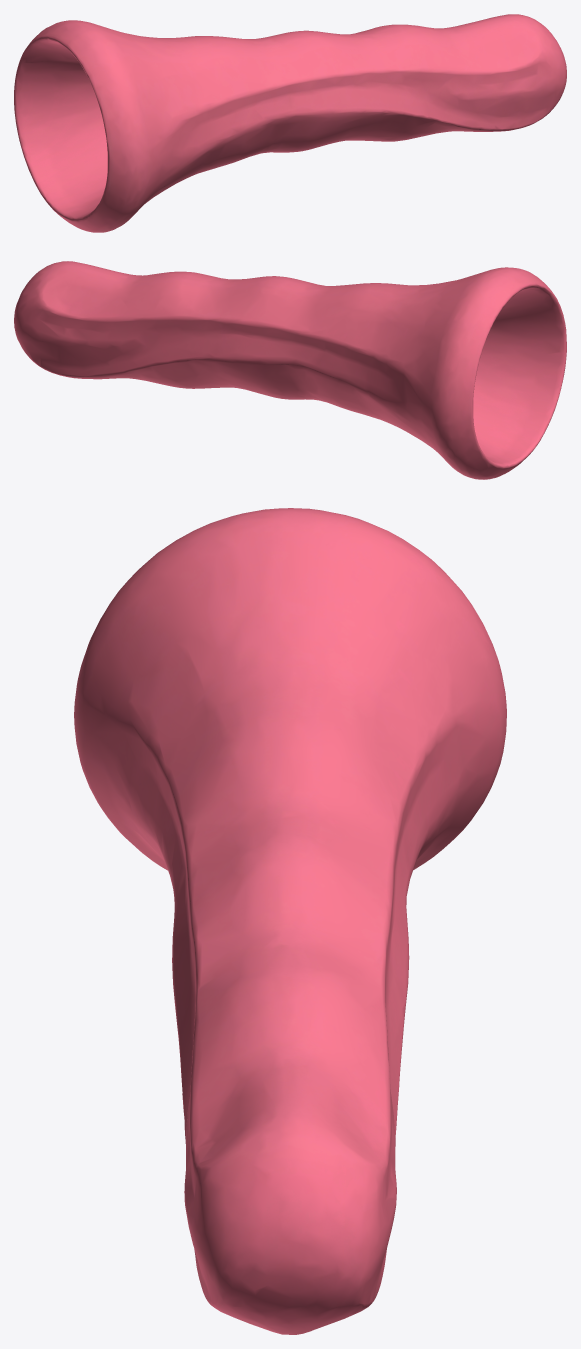
The model's file is Part_CapillaryTube.glb.
3 renders of one model, top to bottom at view 1: azimuth 30°, elevation 25°; view 2: azimuth 150°, elevation 25°; view 3: azimuth 270°, elevation 25°, orthographic. The views are drawn at different scales.
Size of the model in its own units: 1.9 by 0.7345 by 0.714.
Materials: 1 (1 with a texture image).
